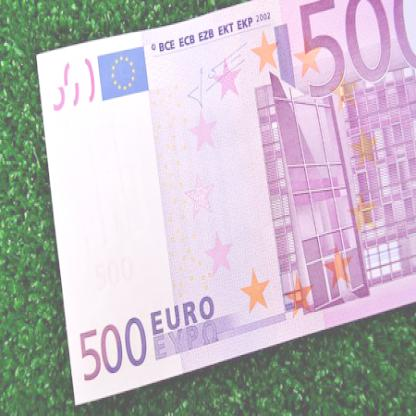euro_banknote: (42, 32, 411, 375)
